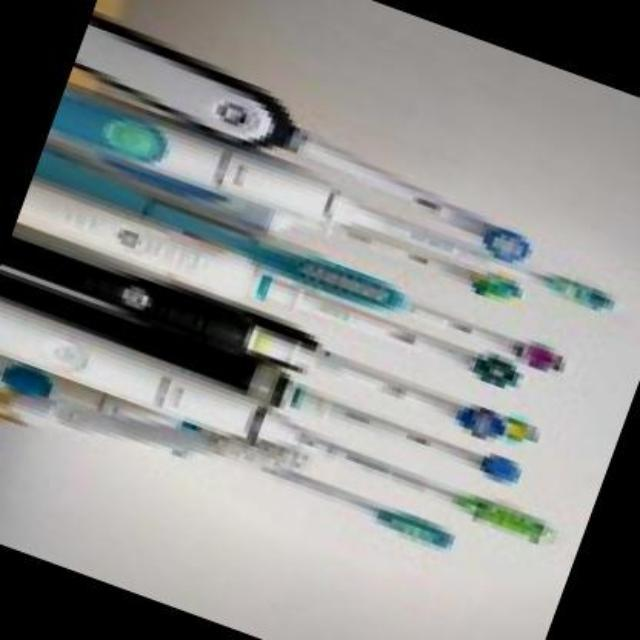toothbrush: (212, 76, 638, 620)
